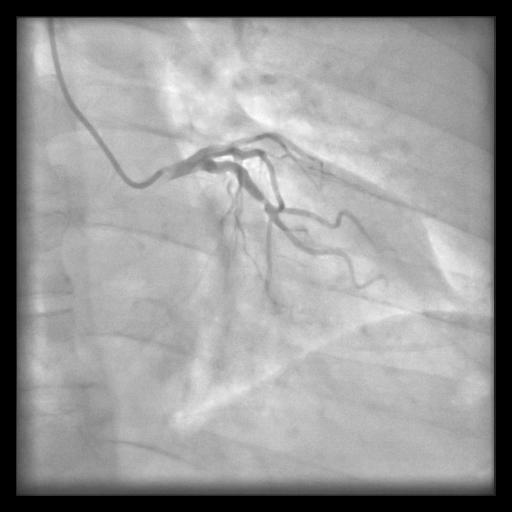Stenosis: (259, 192, 270, 210)
